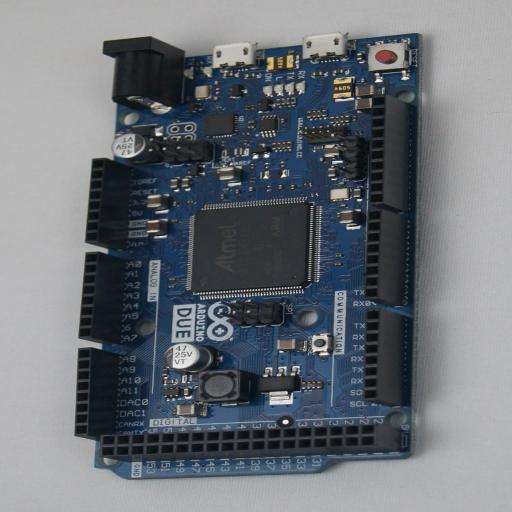Arduino Due: (74, 32, 433, 480)
